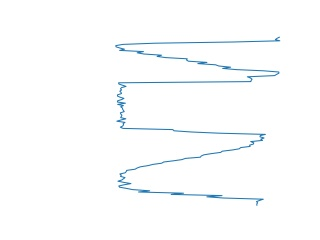distributaryChannelFill: (112, 73, 269, 142)
mouthBar: (112, 36, 284, 75)
underwaterDistributaryChannel: (113, 140, 267, 210)
